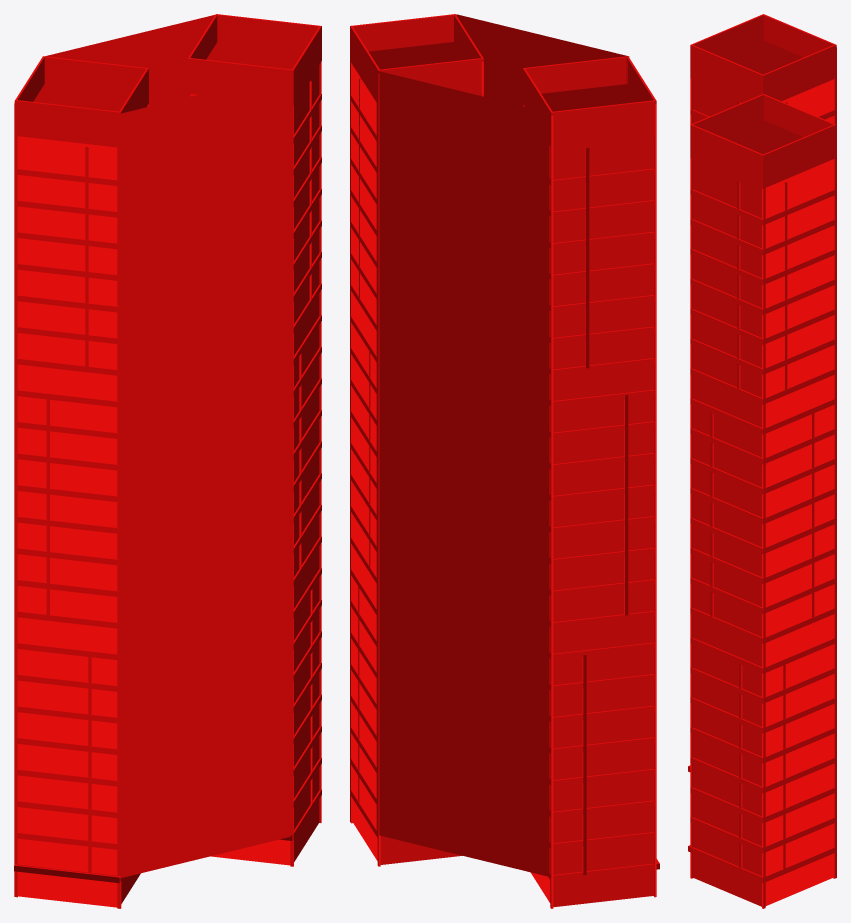
Rendered from TallBuilding3_M_V1_Raghu.fbx.
The picture shows the model from 3 angles, left to right: view 1: azimuth 30°, elevation 25°; view 2: azimuth 150°, elevation 25°; view 3: azimuth 270°, elevation 25°; orthographic projection. The views are drawn at different scales.
Parts seen in each view (by area): view 1: tallBuilding_M_v3_raghu_low; view 2: tallBuilding_M_v3_raghu_low; view 3: tallBuilding_M_v3_raghu_low.
Part boxes in pixels (x1,y1,x2,y2): tallBuilding_M_v3_raghu_low: [14, 14, 321, 908]; tallBuilding_M_v3_raghu_low: [350, 14, 659, 908]; tallBuilding_M_v3_raghu_low: [688, 14, 836, 908].
Size of the model in its own units: 3362 by 8285 by 1483.
